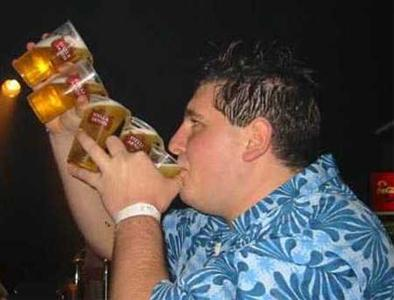person: (26, 31, 394, 300)
